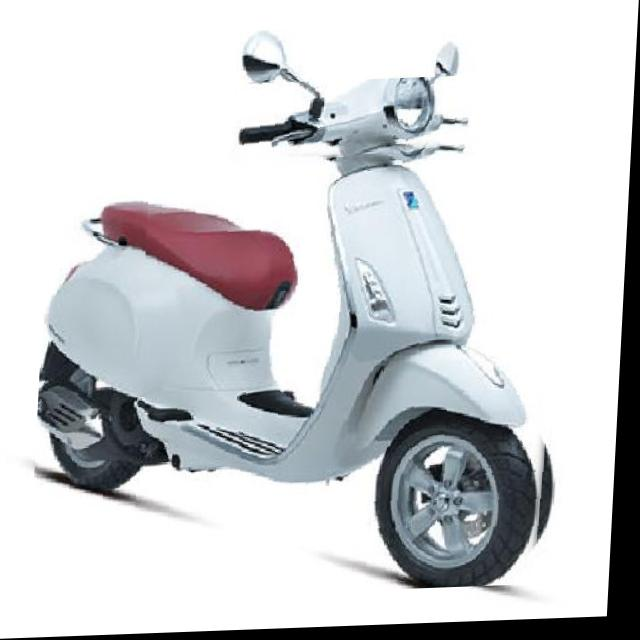All: (34, 69, 580, 603)
Head: (237, 79, 474, 170)
Tail: (75, 188, 151, 263)
